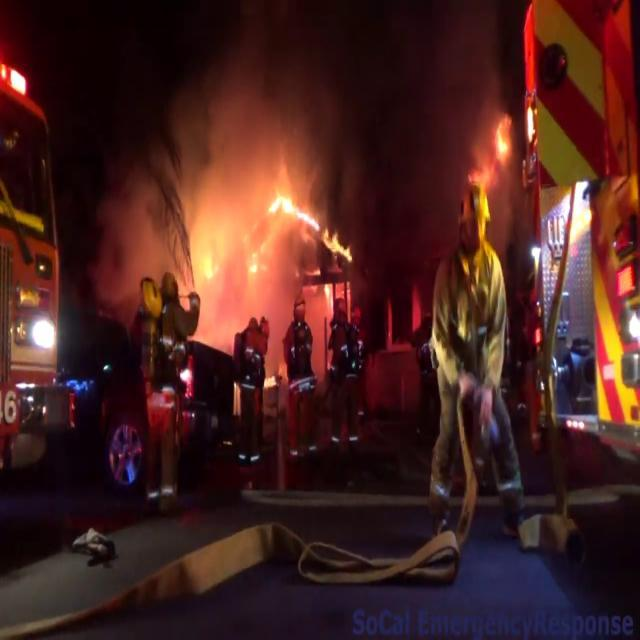Fire: (204, 175, 324, 306), (478, 101, 514, 194)
Smoke: (114, 0, 372, 244)
